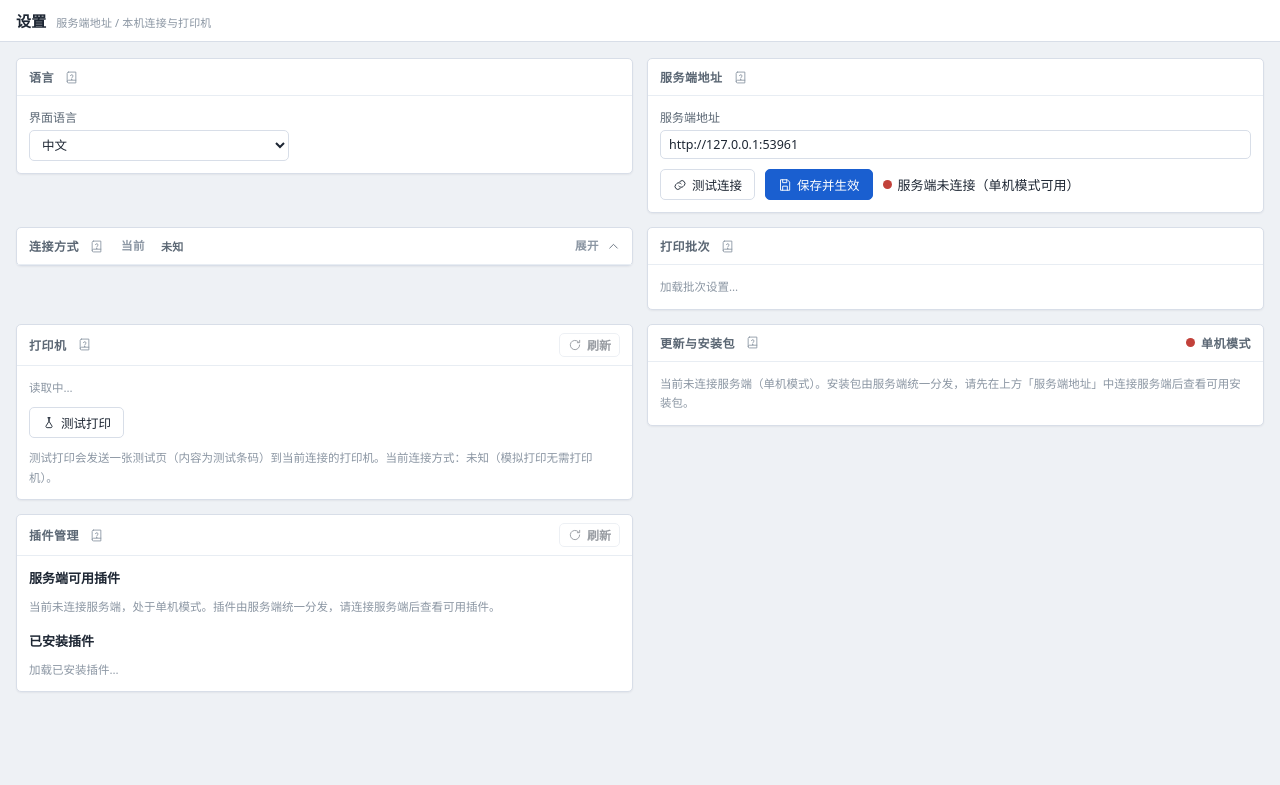
连接文案用户化（迭代 82，#130：评审 #114 B-1 / A-1 / B-5 / B-2） › 选项列表 Log 项显示「模拟打印」，无「Log」字样（迭代 87，#143）
Click the text "连接方式" at (324, 246), box [17,228,632,265]
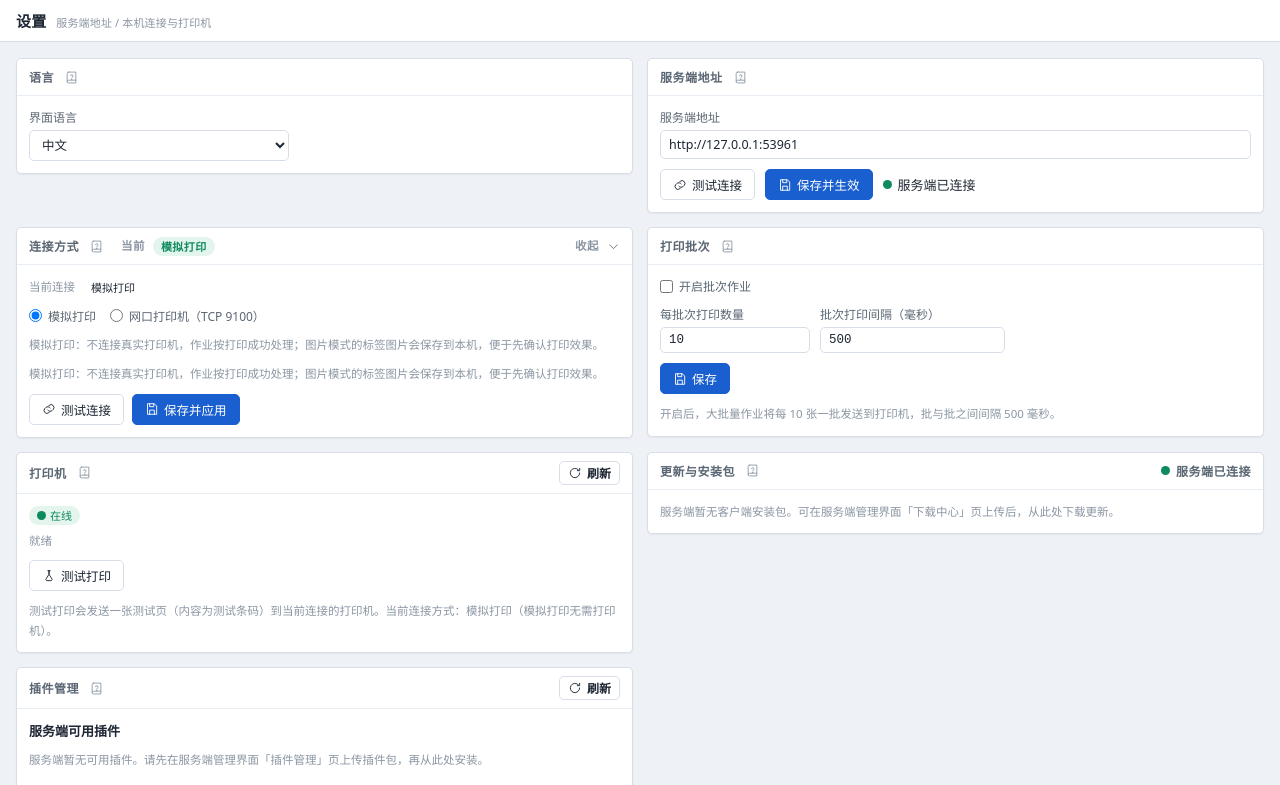
Expected: the radio button labelled "模拟打印" is shown, [29,309,42,322]
Expected: the 1st text "模拟打印：不连接真实打印机，作业按打印成功处理；图片模式的标签图片会保存到本机，便于先确认打印效果。" is shown, [29,334,620,354]
